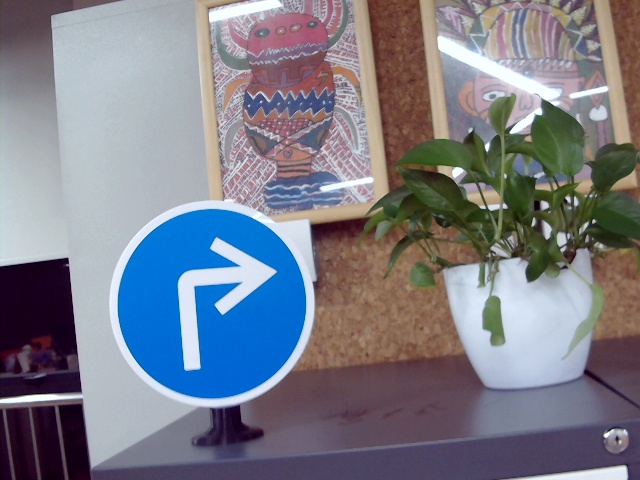turn_right: (162, 237, 275, 364)
